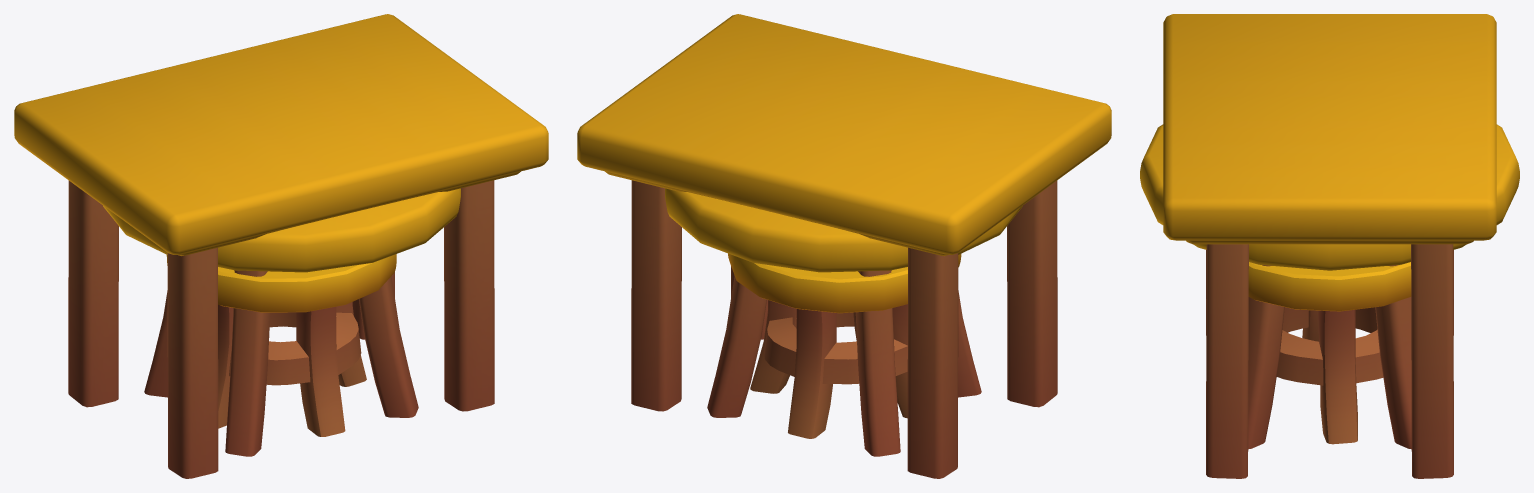
Rendered from Yellow_C_D.fbx.
3 renders of one model, left to right at view 1: azimuth 30°, elevation 25°; view 2: azimuth 150°, elevation 25°; view 3: azimuth 270°, elevation 25°, orthographic. The views are drawn at different scales.
Parts seen in each view (by area): view 1: Yellow_BigDesk, Yellow_Desk, Yellow_Chair; view 2: Yellow_BigDesk, Yellow_Desk, Yellow_Chair; view 3: Yellow_BigDesk, Yellow_Chair, Yellow_Desk.
Boxes of the visible parts, x1=… form: Yellow_BigDesk: x1=14, y1=14, x2=548, y2=478; Yellow_Desk: x1=103, y1=188, x2=460, y2=456; Yellow_Chair: x1=166, y1=254, x2=396, y2=436; Yellow_BigDesk: x1=577, y1=14, x2=1111, y2=478; Yellow_Desk: x1=665, y1=188, x2=1022, y2=456; Yellow_Chair: x1=728, y1=253, x2=961, y2=438; Yellow_BigDesk: x1=1163, y1=14, x2=1496, y2=478; Yellow_Chair: x1=1248, y1=262, x2=1411, y2=444; Yellow_Desk: x1=1140, y1=124, x2=1519, y2=449.
Bounding box in the file's own units: 145 × 104 × 121.
